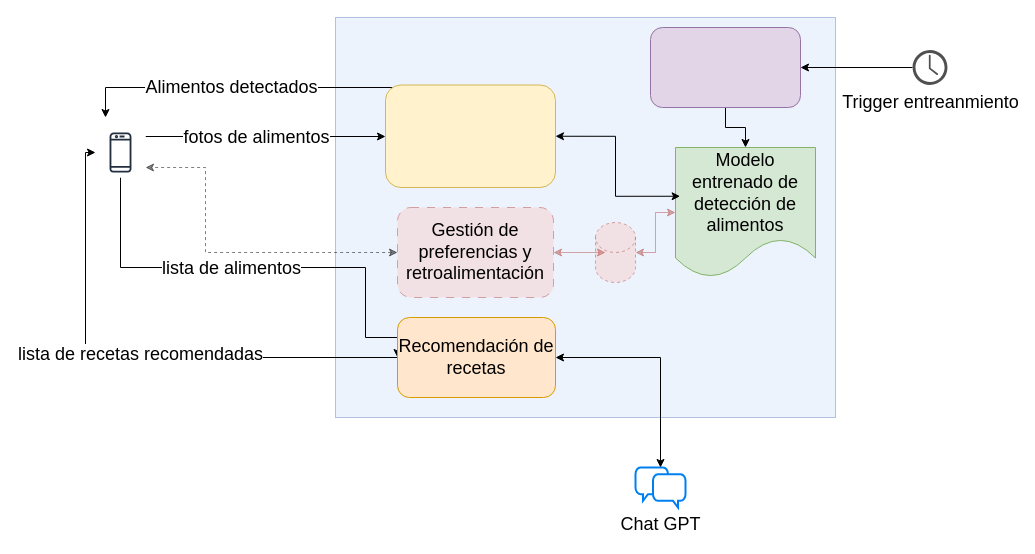
Some shapes in this 1035 by 554 pixel diagram are drawn without their labels. The shapes that lost their labels are listed below. From the top down, each one's centre as x and y in pixels, then its label:
the point at 725,67: Entrenamiento del modelo de detección
the point at 470,136: Detección de alimentos
